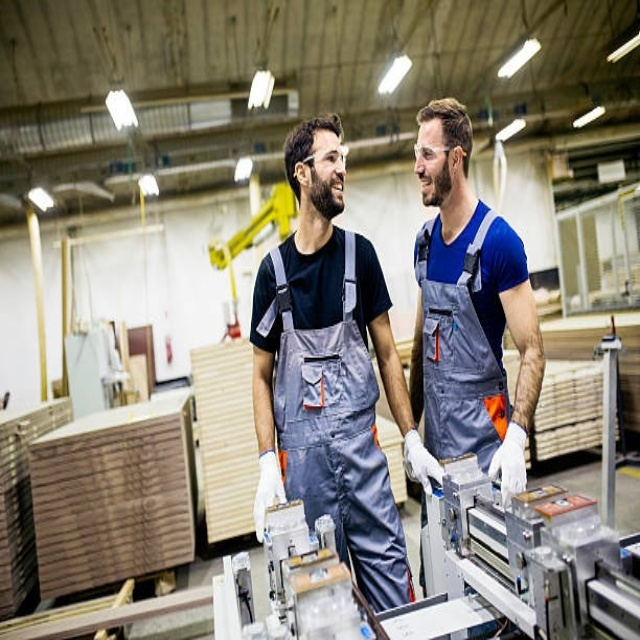Gafas: (303, 148, 350, 168), (412, 144, 461, 163)
Guantes: (488, 423, 528, 510), (253, 451, 287, 543), (403, 429, 445, 494)
Sin_mascara: (326, 179, 347, 207), (419, 174, 438, 201)
